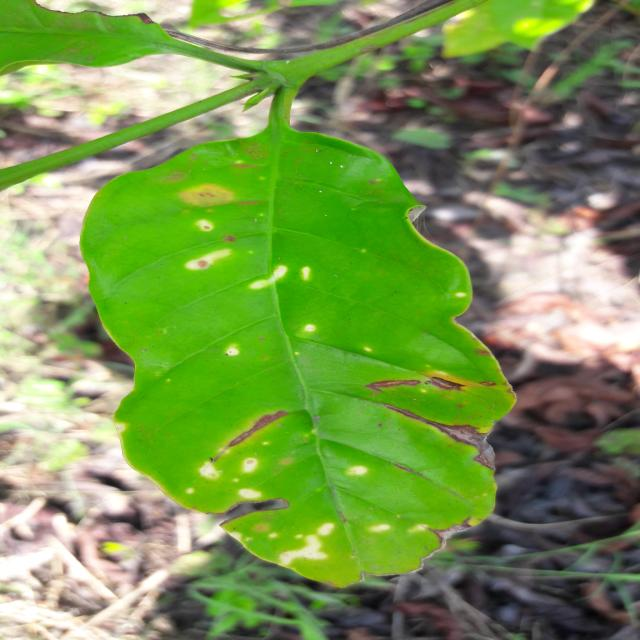Enfermedad-Roya: (78, 82, 516, 587)
